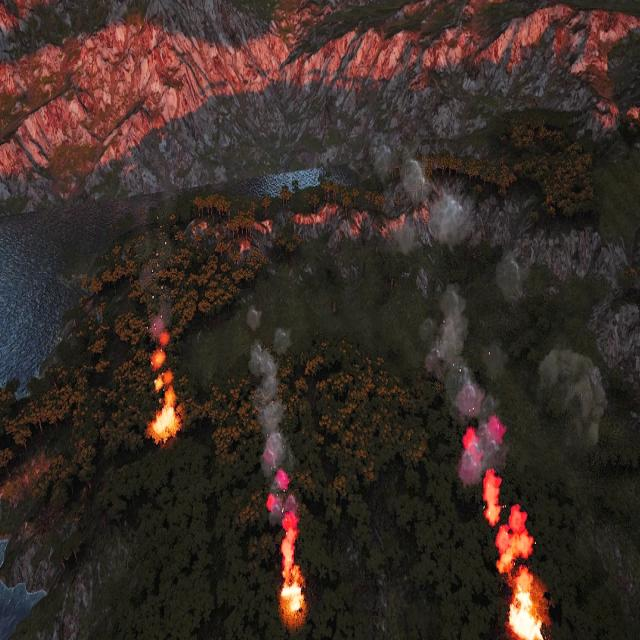fire: (484, 468, 544, 640), (149, 396, 181, 444), (278, 582, 304, 620)
smoke: (377, 141, 534, 567), (242, 289, 342, 572), (145, 297, 180, 394)
